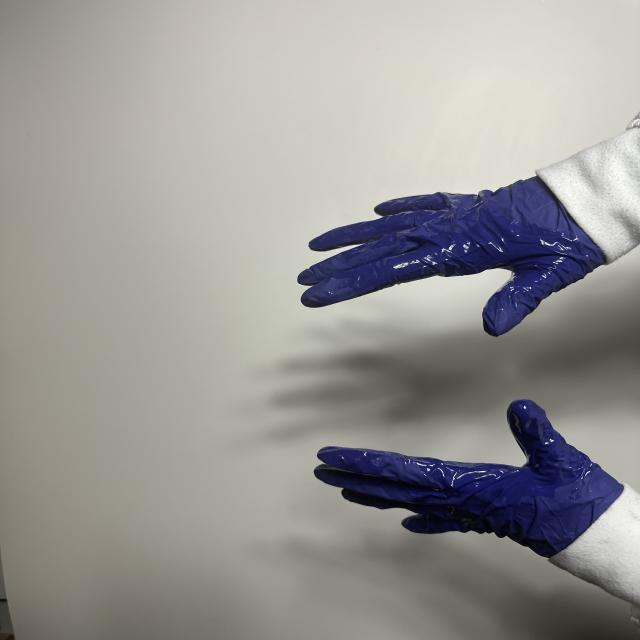gloves_contaminated: (298, 177, 605, 336), (315, 400, 623, 558)
